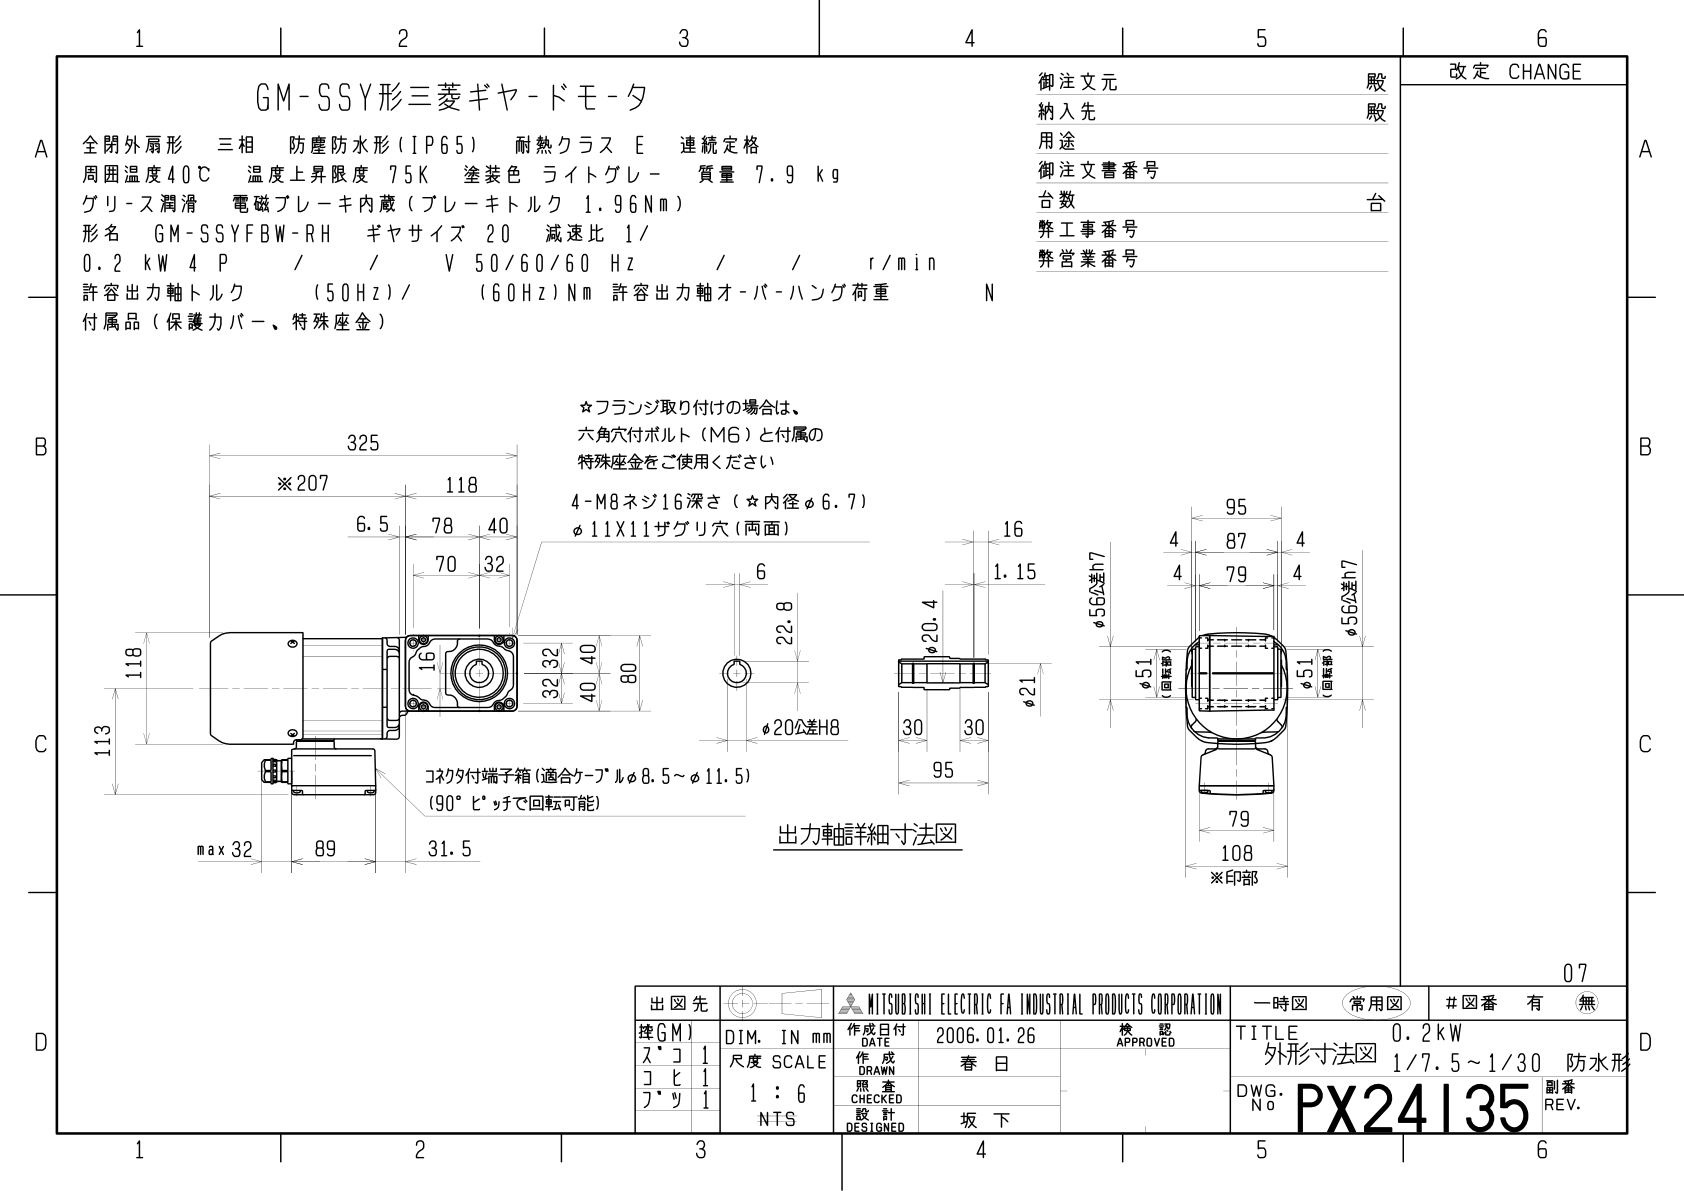GM_SSY_IP65_三相: (6, 10, 1684, 1191)
